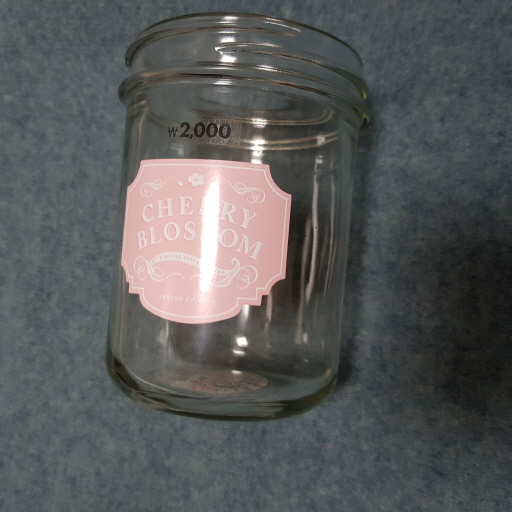Glass_5: (104, 18, 375, 417)
